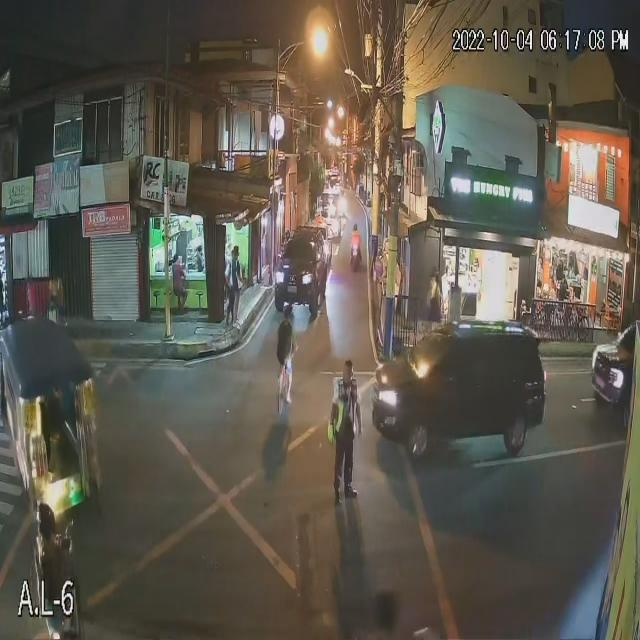helmet: (39, 501, 61, 526), (351, 224, 359, 232)
motorcycle: (349, 241, 363, 273)
rider: (33, 497, 74, 619), (348, 224, 363, 273)
